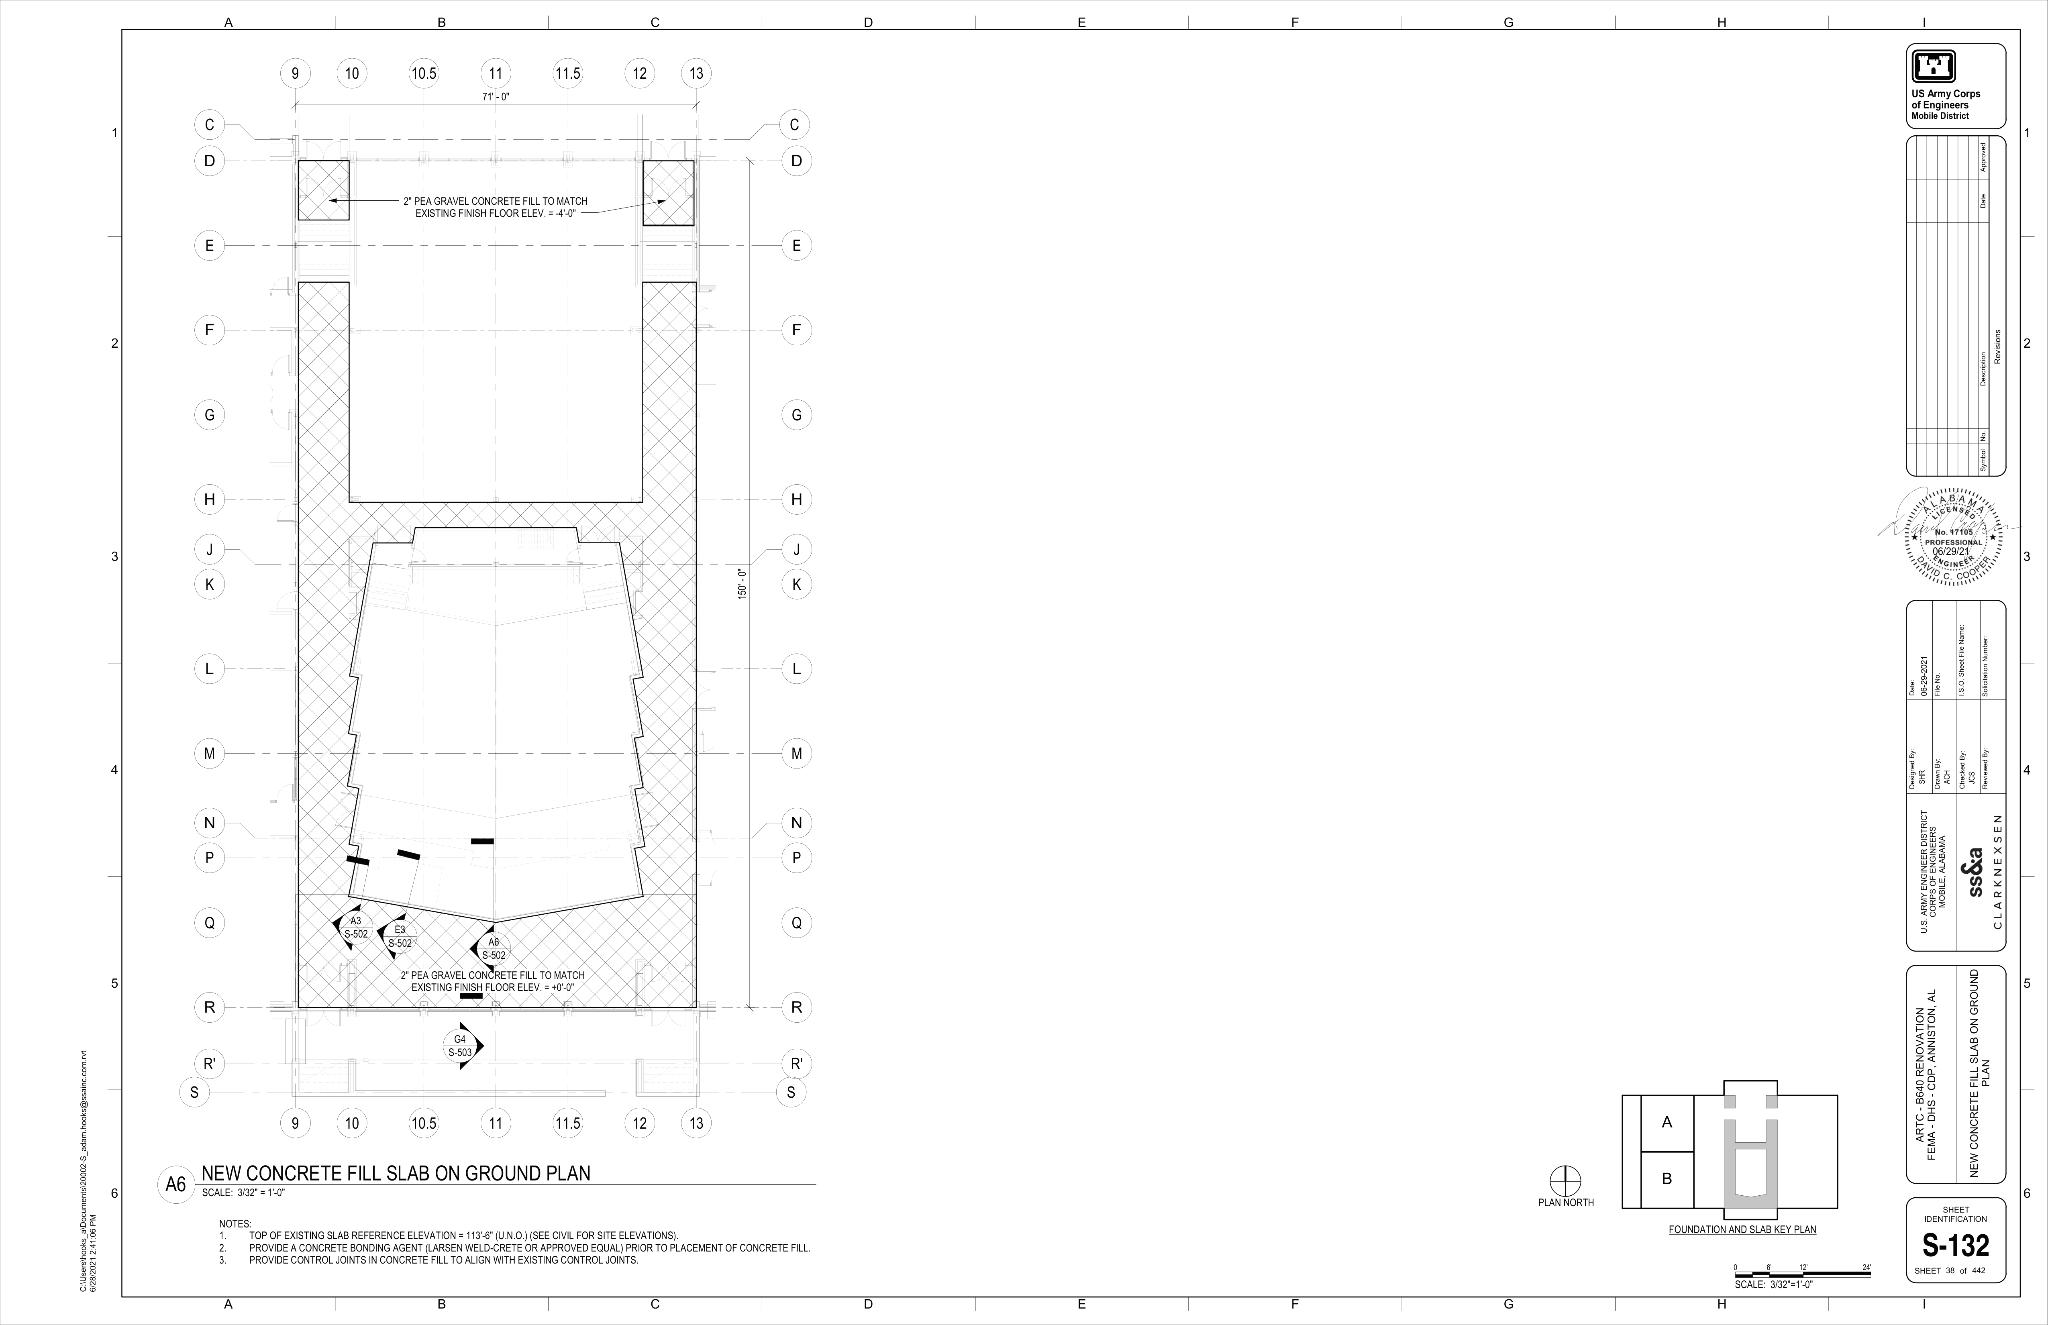elevation: (439, 1019, 487, 1071), (467, 924, 515, 974), (330, 903, 376, 953), (376, 912, 419, 961)
title: (154, 1156, 822, 1212)
